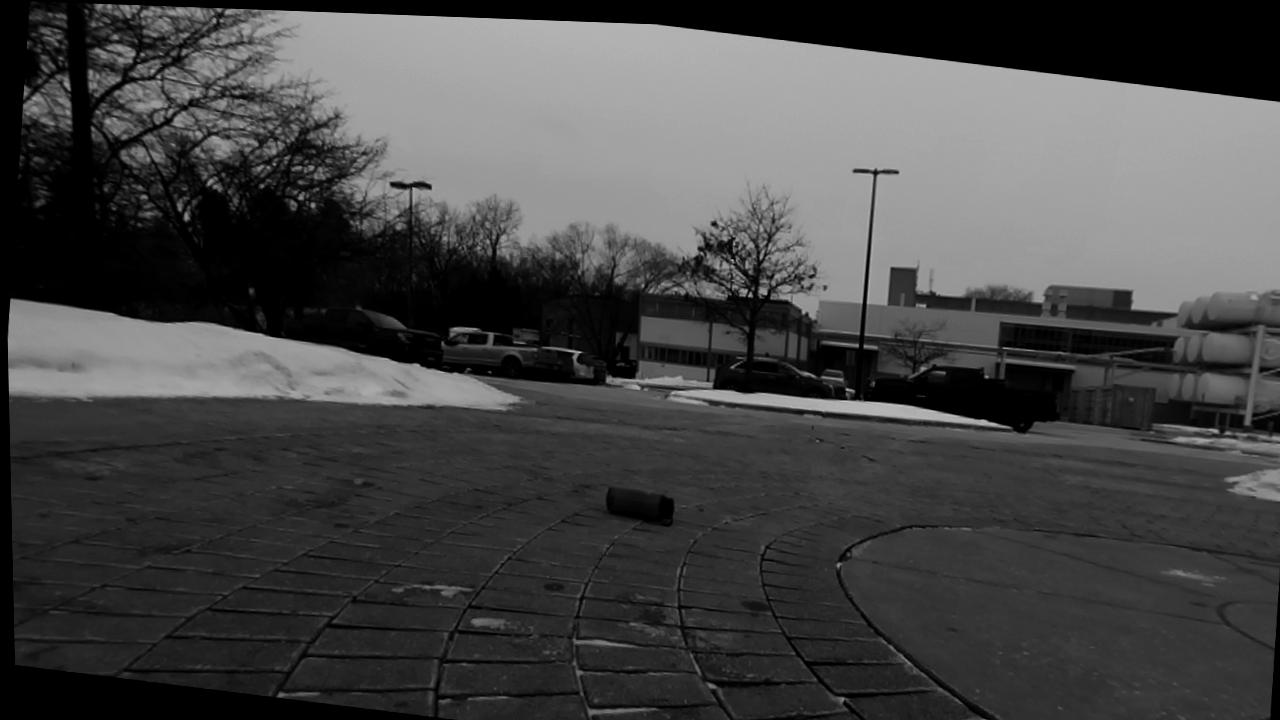bottle: (605, 486, 674, 525)
